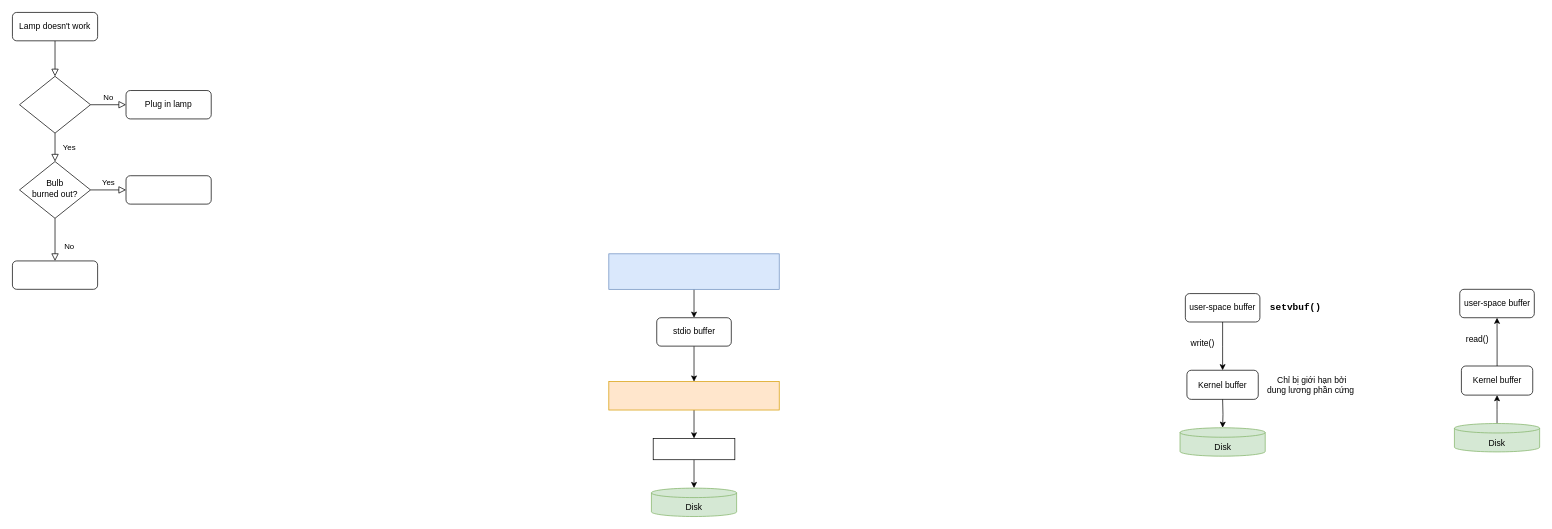
Some shapes in this 1552 by 529 pixel diagram are drawn without their labels. Here are the shapes that lost their labels. From the top down, the centre of each, then its label:
At pixel 55 104: "Lamp plugged in?".
At pixel 168 189: "Replace Bulb".
At pixel 55 274: "Repair Lamp".
At pixel 693 271: "User Space (stdio library như: printf,...)".
At pixel 693 395: "I/O system call như write(),...".
At pixel 693 449: "Kernel buffer cache".
